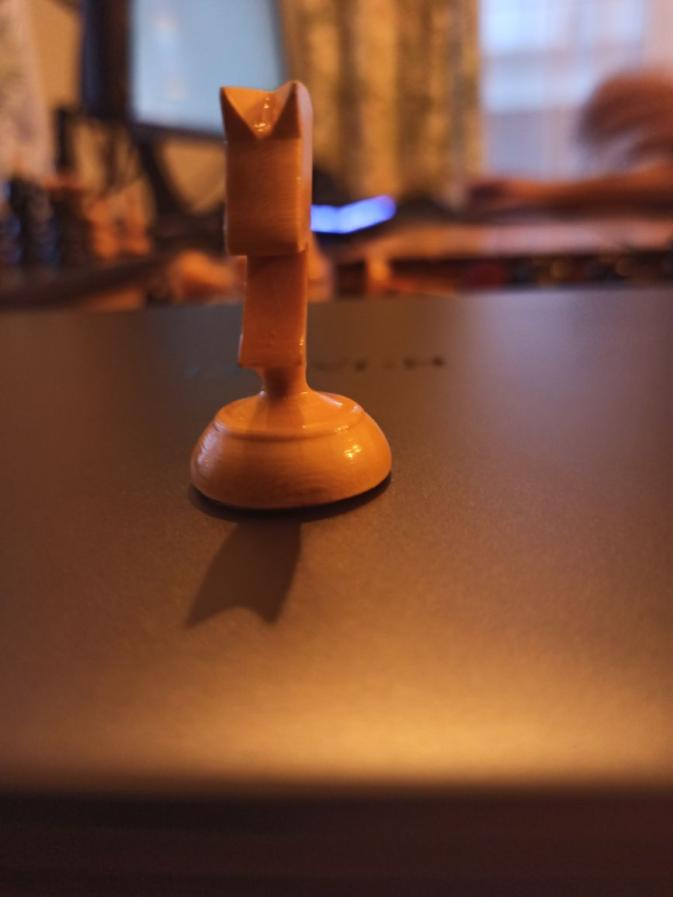wknight: (189, 80, 394, 516)
